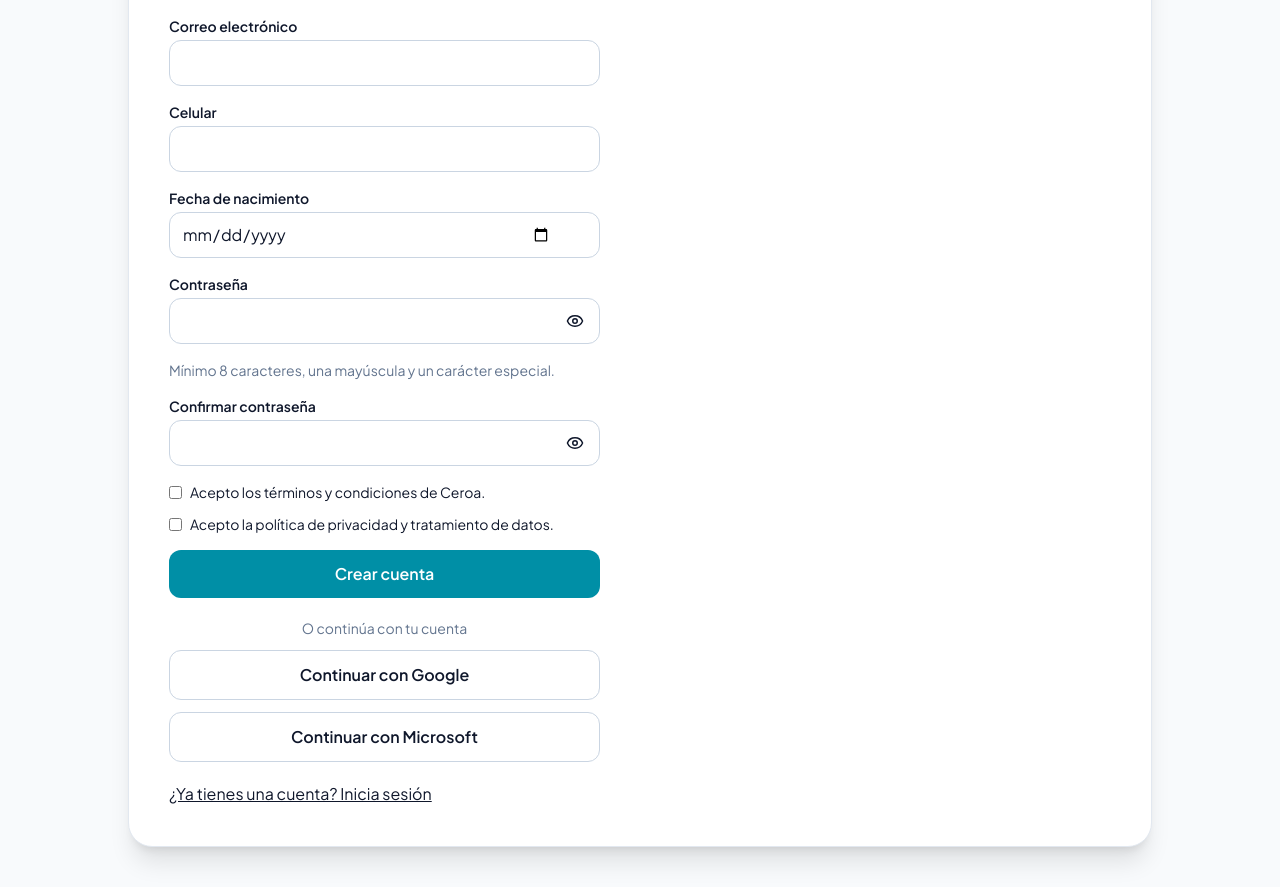
Scenario: forms and preferences › offers Microsoft on registration and reports unavailable provider
(page scrolled)
Click the button "Continuar con Microsoft" at (384,737), box [169,712,600,762]
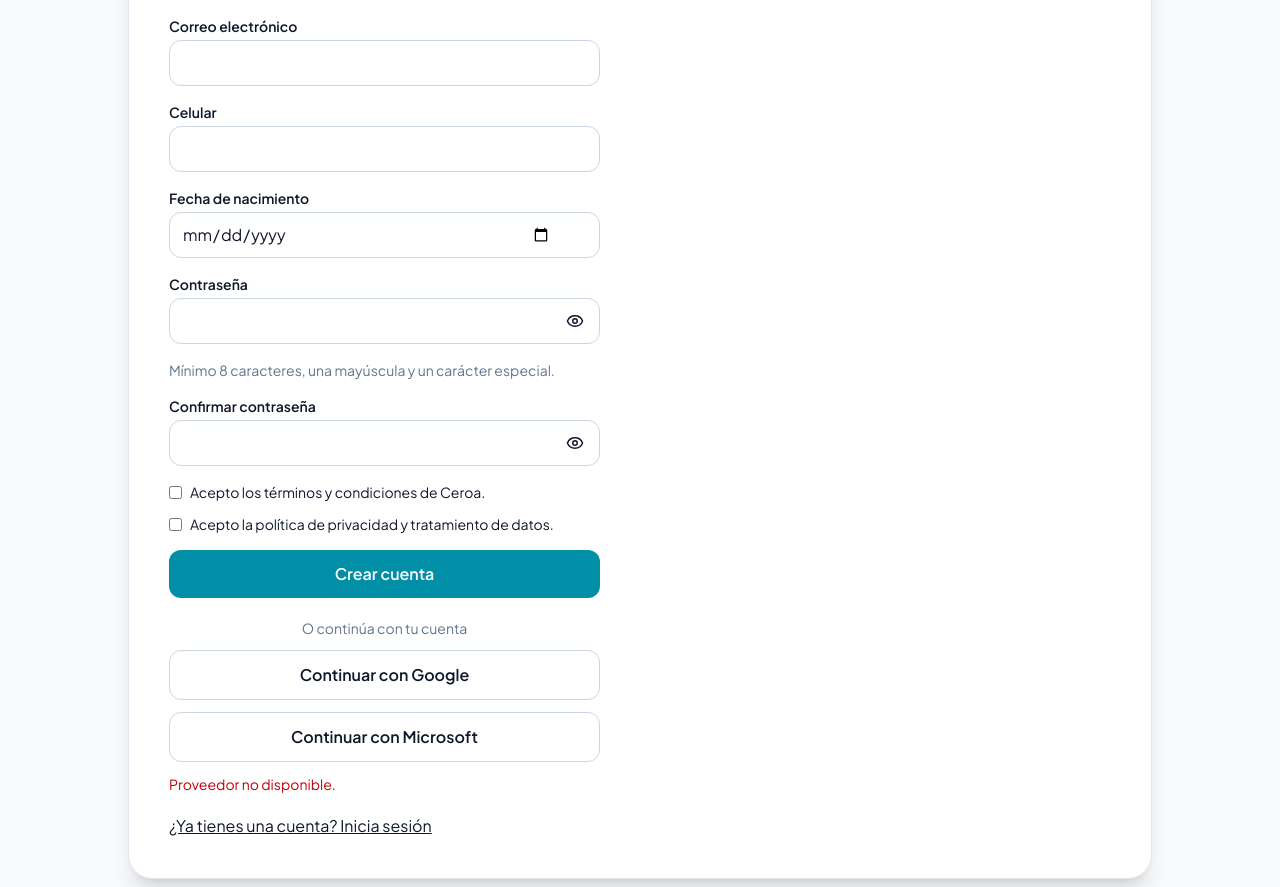
Expected: the message "Proveedor no disponible." is shown, [169,775,336,793]
